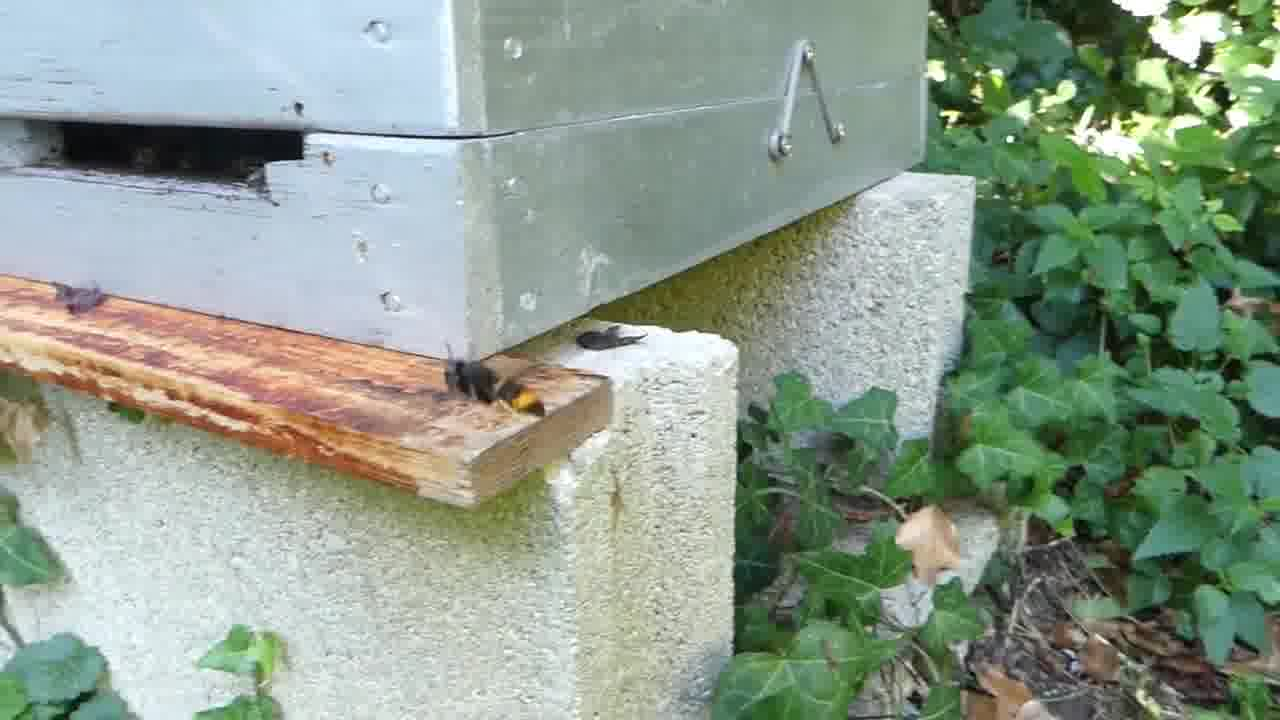hornet: (438, 353, 553, 429)
